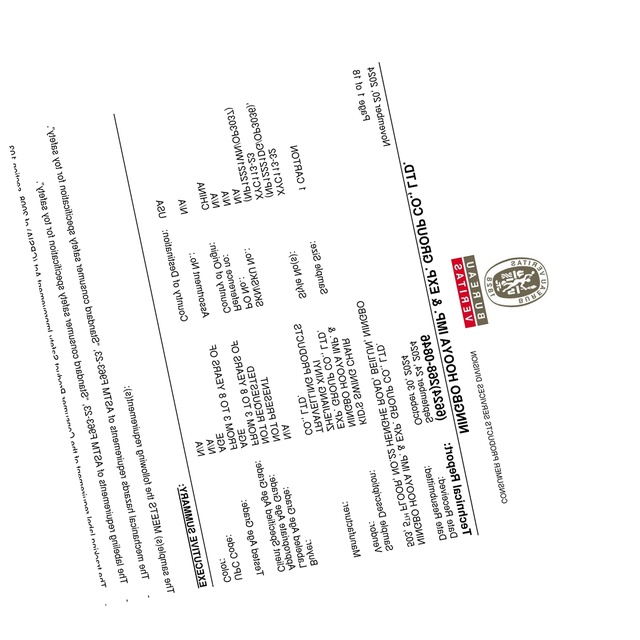bureau_veritas: (451, 253, 550, 328)
